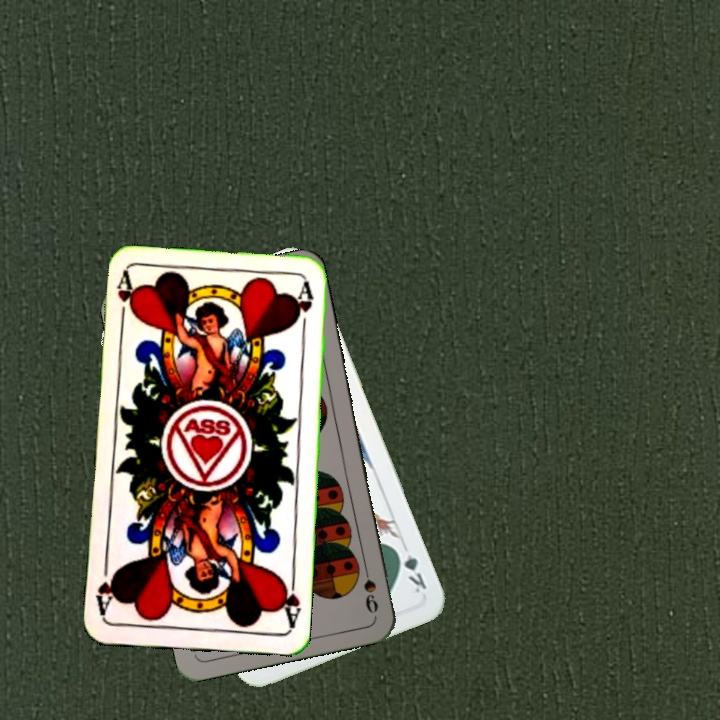GK: (391, 543, 430, 596)
HA: (276, 570, 303, 629), (112, 269, 136, 329)
S9: (359, 558, 381, 615)
